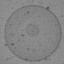small: (26, 23, 38, 34)
